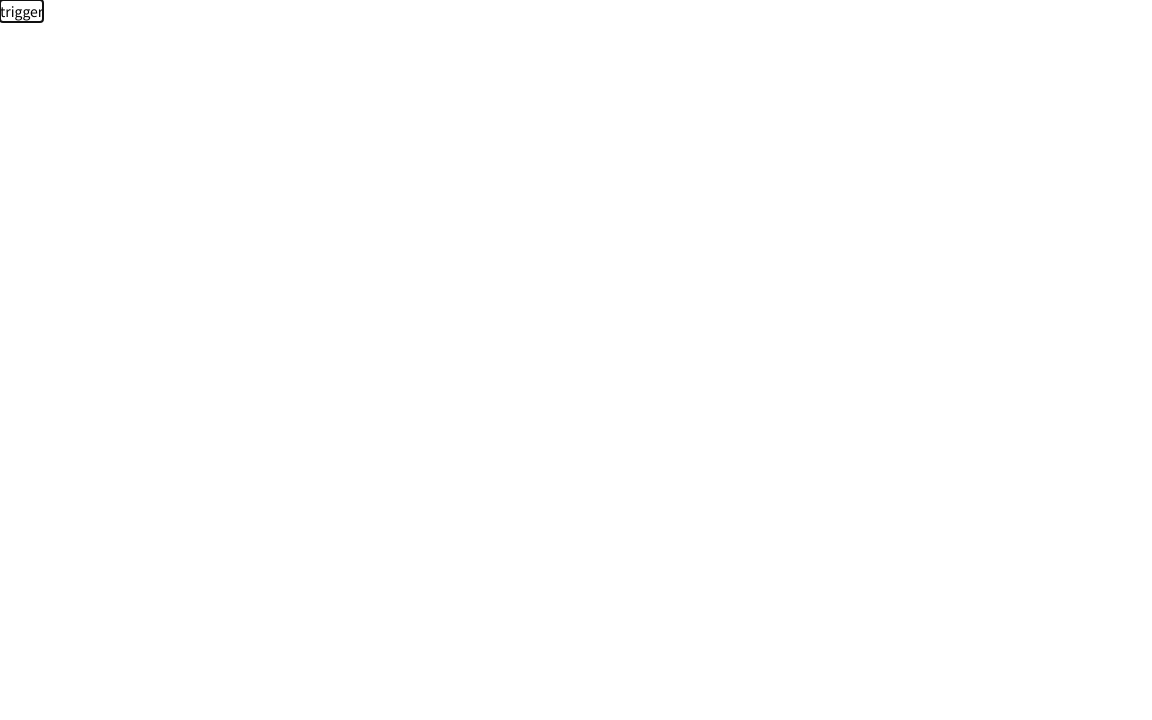
command palette shortcuts and focus › closes on Escape and restores focus to the previously focused element
Press k
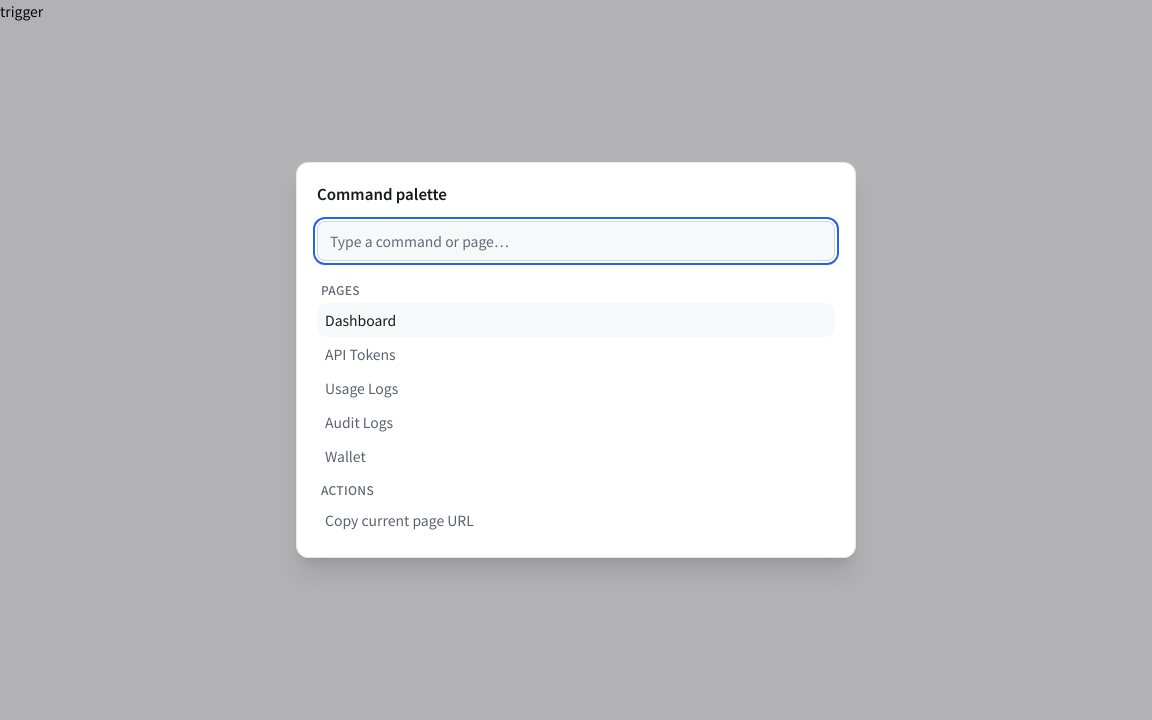
Type "dash" into the dropdown at (576, 241), box top-left (317, 221), bottom-right (835, 261)
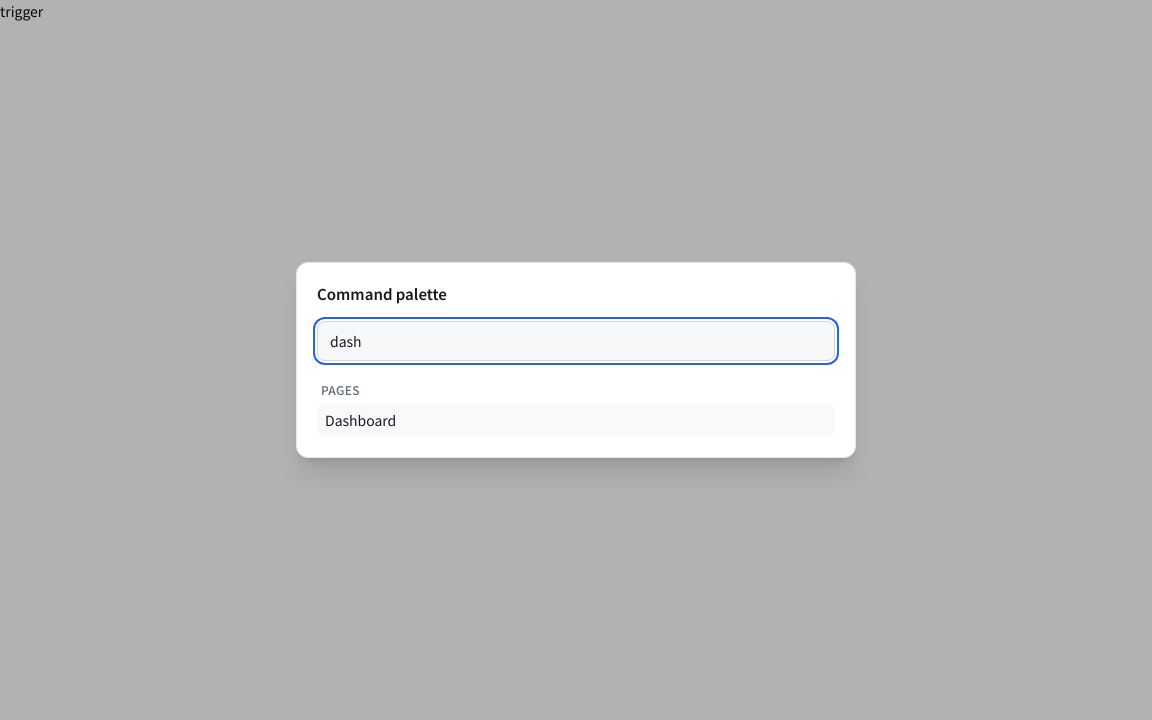
Press Escape in the dropdown, box top-left (317, 321), bottom-right (835, 361)
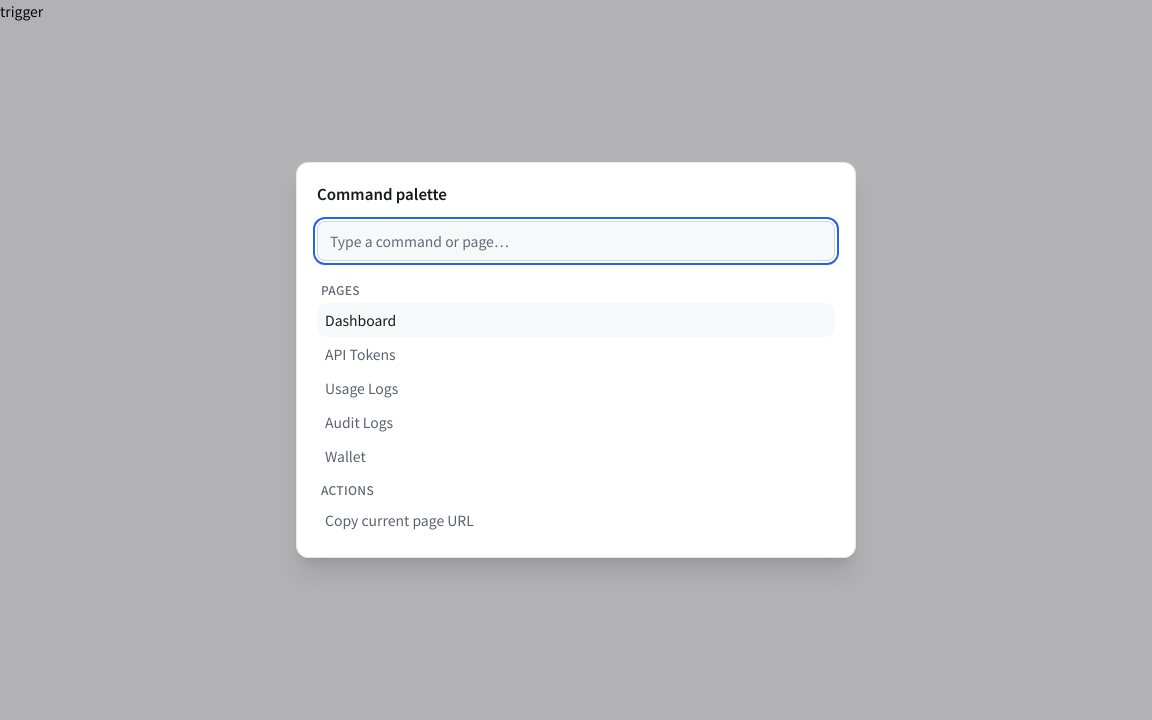
Expected: the dropdown is empty
Press Escape in the dropdown, box top-left (317, 221), bottom-right (835, 261)
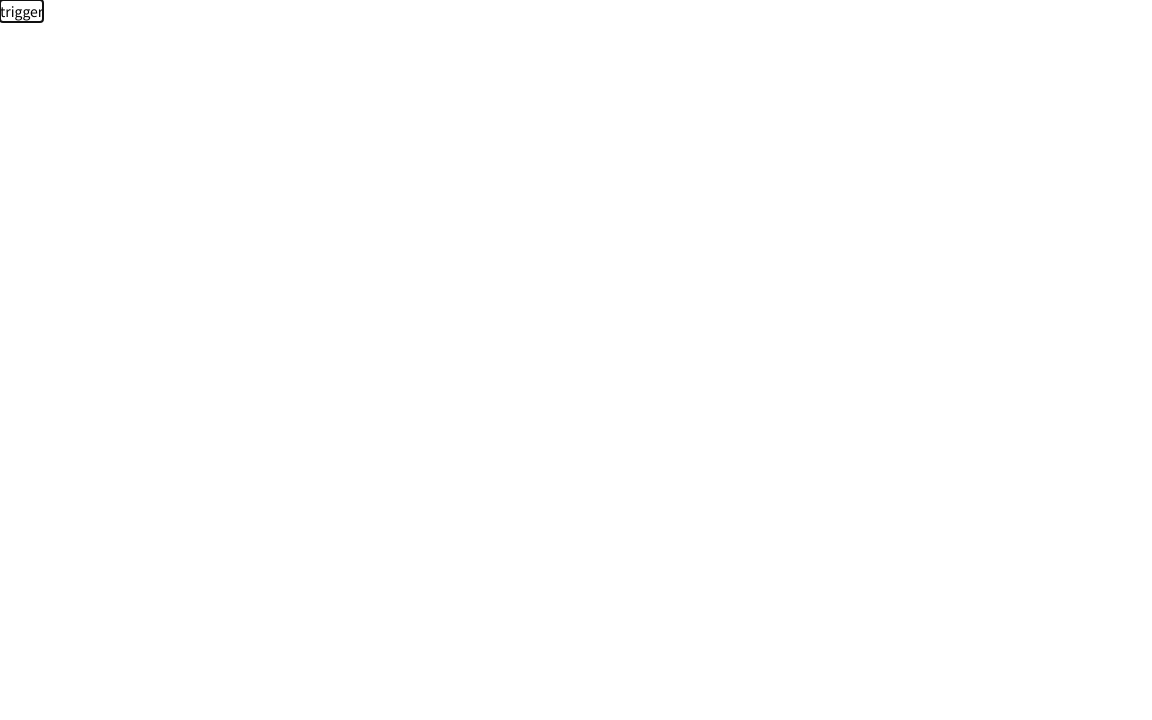
Expected: the dialog is gone
